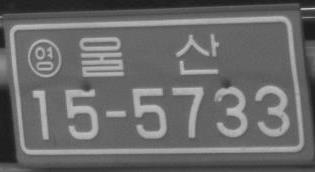-: (104, 108, 128, 120)
1: (27, 88, 58, 140)
3: (254, 84, 291, 138), (213, 85, 248, 139)
5: (131, 86, 168, 140), (63, 87, 99, 140)
7: (171, 85, 205, 139)
영: (26, 38, 62, 78)
울산_D: (79, 31, 220, 78)
